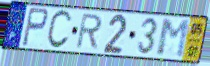2: (103, 13, 129, 56)
3: (136, 17, 159, 57)
C: (45, 8, 74, 51)
M: (156, 19, 191, 60)
P: (20, 6, 49, 49)
R: (74, 13, 104, 51)
